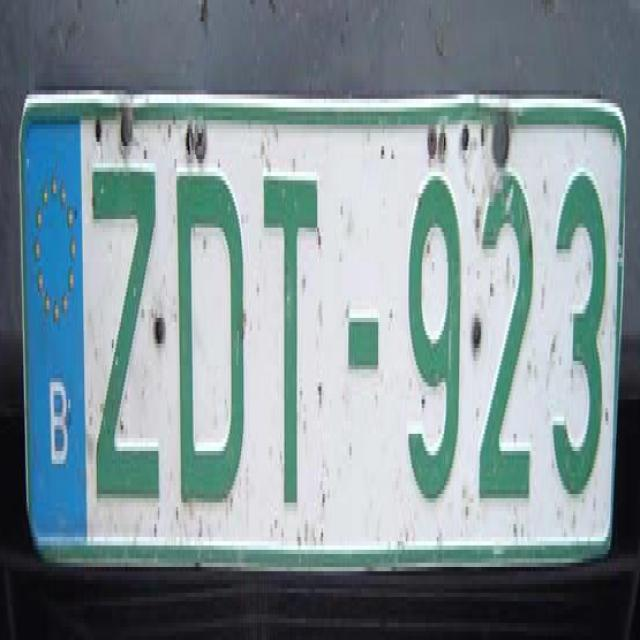Belgique: (25, 118, 86, 540)
EU: (22, 116, 622, 548)
